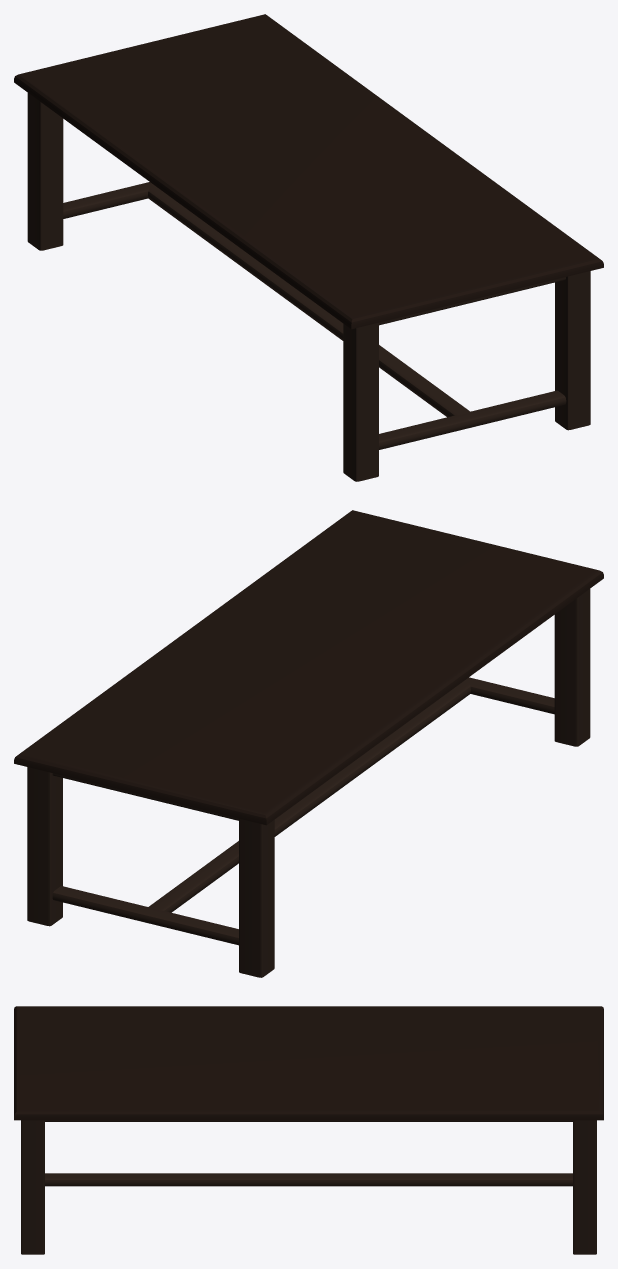
Rendered from DinnerTable_80s_v1.fbx.
3 views of the same model, one above another, from view 1: azimuth 30°, elevation 25°; view 2: azimuth 150°, elevation 25°; view 3: azimuth 270°, elevation 25° (orthographic). The views are drawn at different scales.
Parts seen in each view (by area): view 1: U_DinnerTable_80s; view 2: U_DinnerTable_80s; view 3: U_DinnerTable_80s.
Part boxes in pixels (box(x1,y1,x2,y2)): U_DinnerTable_80s: box(14, 14, 603, 481); U_DinnerTable_80s: box(14, 510, 603, 977); U_DinnerTable_80s: box(14, 1006, 603, 1254).
Size of the model in its own units: 10.55 by 6.66 by 24.39.
